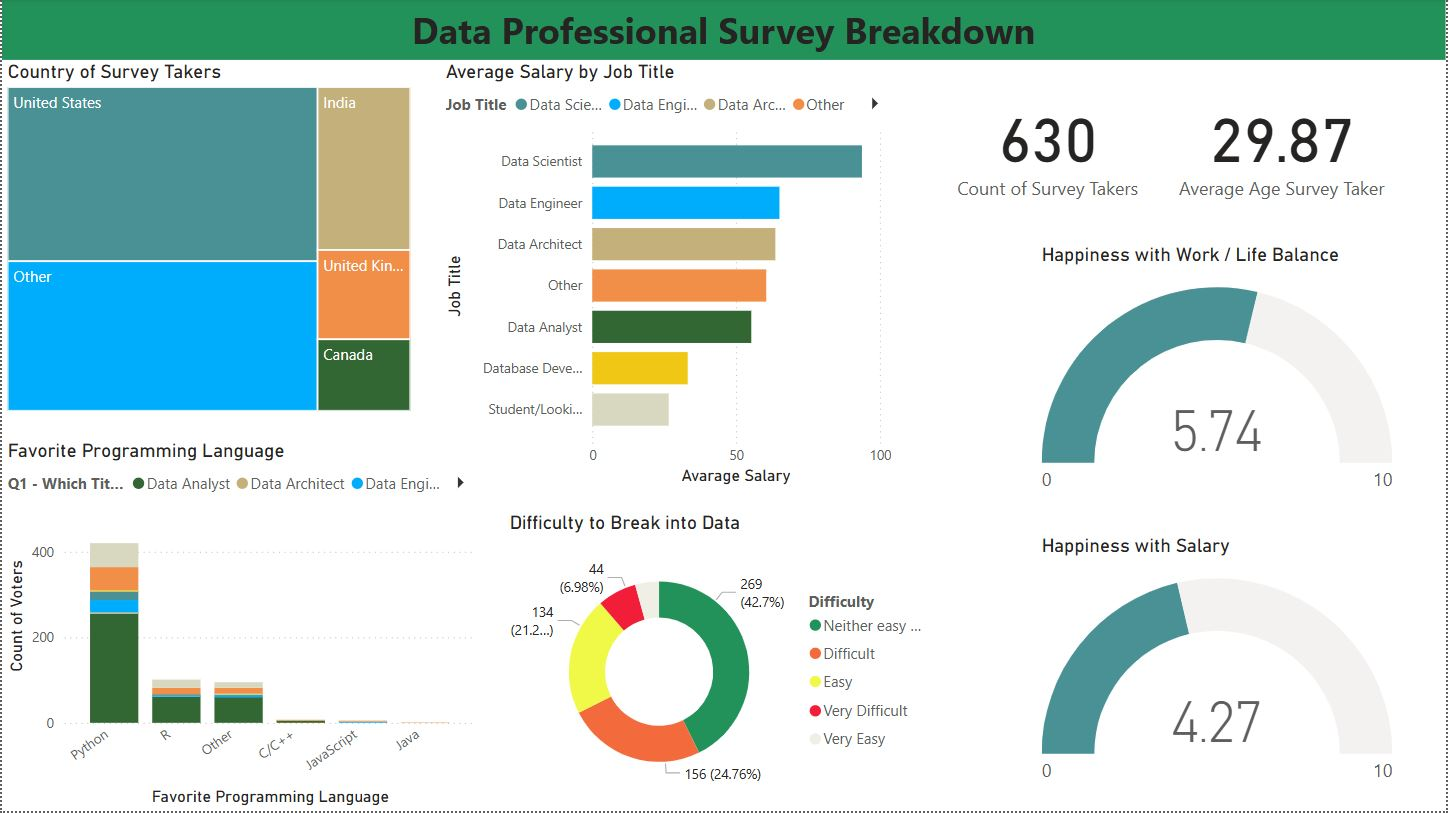

Layout of this report page (visuals, bound fields, positions):
{"tool":"powerbi","page":{"name":"Page 1","canvas":[1280,720],"ordinal":0},"visuals":[{"type":"textbox","box":[0,0,1280,54],"z":0},{"type":"card","fields":{"Values":["Count(Data Professional Survey.Unique ID)"]},"box":[824,54,207,150],"z":1},{"type":"card","fields":{"Values":["Avg(Data Professional Survey.Q10 - Current Age)"]},"box":[1031,54,207,150],"z":2},{"type":"barChart","title":"Average Salary by Job Title","fields":{"Category":["Data Professional Survey.Q1 - Which Title Best Fits your Current Role?.1"],"Y":["Avg(Data Professional Survey.Avarage Salary)"],"Series":["Data Professional Survey.Q1 - Which Title Best Fits your Current Role?.1"]},"box":[388,54,405,382],"z":3},{"type":"columnChart","title":"Favorite Programming Language","fields":{"Category":["Data Professional Survey.Q5 - Favorite Programming Language.1"],"Y":["CountNonNull(Data Professional Survey.Unique ID)"],"Series":["Data Professional Survey.Q1 - Which Title Best Fits your Current Role?.1"]},"box":[0,390,425,330],"z":4},{"type":"treemap","title":"Country of Survey Takers","fields":{"Group":["Data Professional Survey.Q11 - Which Country do you live in?.1"],"Values":["CountNonNull(Data Professional Survey.Q11 - Which Country do you live in?.1)"]},"box":[0,54,367,316],"z":5},{"type":"gauge","title":"Happiness with Work / Life Balance","fields":{"Y":["Avg(Data Professional Survey.Q6 - How Happy are you in your Current Position with the following? (Work/Life Balance))"],"MinValue":["Min(Data Professional Survey.Q6 - How Happy are you in your Current Position with the following? (Work/Life Balance))"],"MaxValue":["Max(Data Professional Survey.Q6 - How Happy are you in your Current Position with the following? (Work/Life Balance))"]},"box":[917,216,321,246],"z":6},{"type":"gauge","title":"Happiness with Salary","fields":{"Y":["Avg(Data Professional Survey.Q6 - How Happy are you in your Current Position with the following? (Salary))"],"MinValue":["Min(Data Professional Survey.Q6 - How Happy are you in your Current Position with the following? (Salary))1"],"MaxValue":["Max(Data Professional Survey.Q6 - How Happy are you in your Current Position with the following? (Salary))2"]},"box":[917,474,321,246],"z":7},{"type":"donutChart","title":"Difficulty to Break into Data","fields":{"Category":["Data Professional Survey.Q7 - How difficult was it for you to break into Data?"],"Y":["CountNonNull(Data Professional Survey.Q7 - How difficult was it for you to break into Data?)"]},"box":[445,454,389,266],"z":8}]}

Visuals, with their boxes in screenshot pixels (x1, y1, x2, y2), scaled from the page's 1280x720 canvas onto the 1449x813 screenshot:
textbox: [left=0, top=0, right=1448, bottom=61]
card - Count(Data Professional Survey.Unique ID): [left=933, top=61, right=1167, bottom=230]
card - Avg(Data Professional Survey.Q10 - Current Age): [left=1167, top=61, right=1401, bottom=230]
"Average Salary by Job Title" barChart: [left=439, top=61, right=898, bottom=492]
"Favorite Programming Language" columnChart: [left=0, top=440, right=481, bottom=812]
"Country of Survey Takers" treemap: [left=0, top=61, right=415, bottom=418]
"Happiness with Work / Life Balance" gauge: [left=1038, top=244, right=1401, bottom=522]
"Happiness with Salary" gauge: [left=1038, top=535, right=1401, bottom=812]
"Difficulty to Break into Data" donutChart: [left=504, top=513, right=944, bottom=812]
